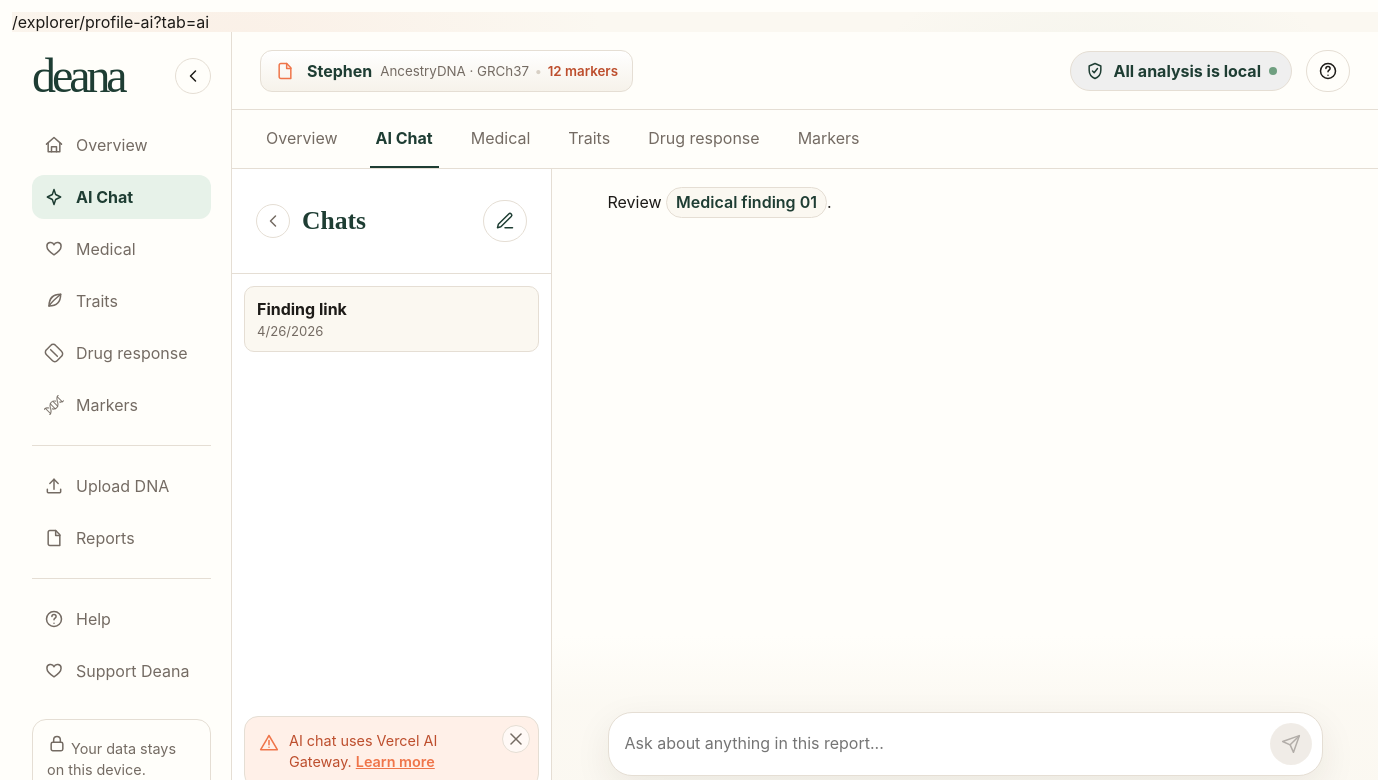
it: Deana app › opens deana entry chips in the chat inspector without navigating away
The width and height of the screenshot is (1378, 780).
Expected: the text "Review Medical finding 01 ." is shown, [608,187,832,218]
Click the button "Medical finding 01" at (747, 202), box [666,187,827,218]
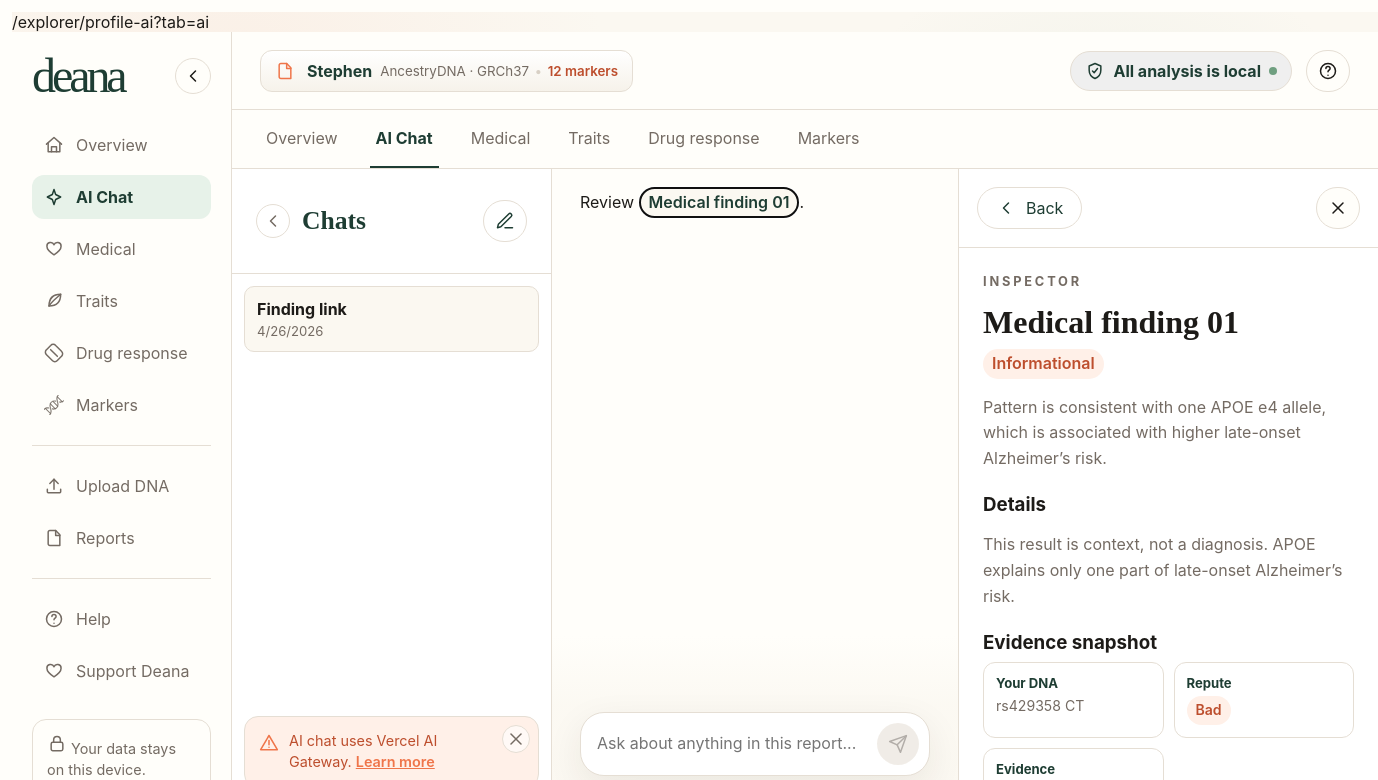
Expected: the text with test id "location" reads "/explorer/profile-ai?tab=ai", [12,12,209,32]
Expected: the heading "Details" is shown, [983,493,1046,516]
Expected: the heading "Medical finding 01" is shown, [983,304,1239,340]
